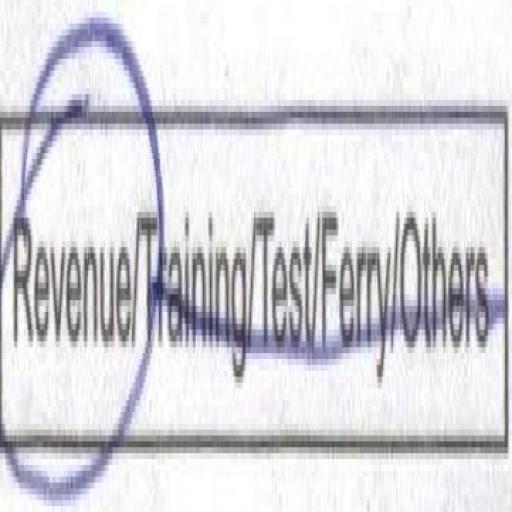check: (0, 33, 140, 512)
